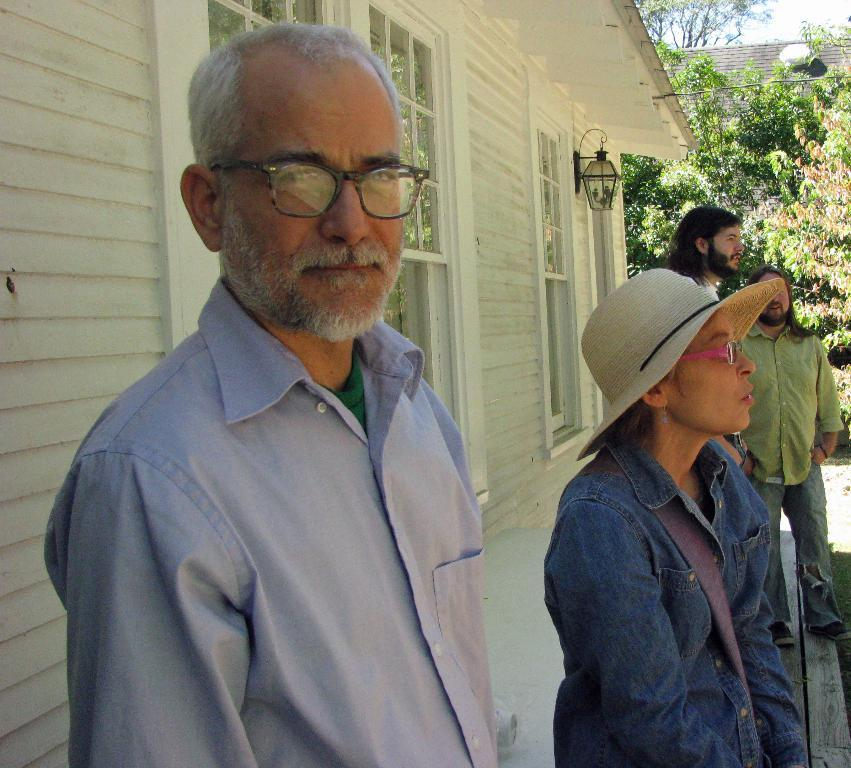Hat: (588, 260, 790, 450)
